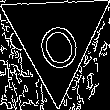O_NW: (28, 5, 84, 71)
